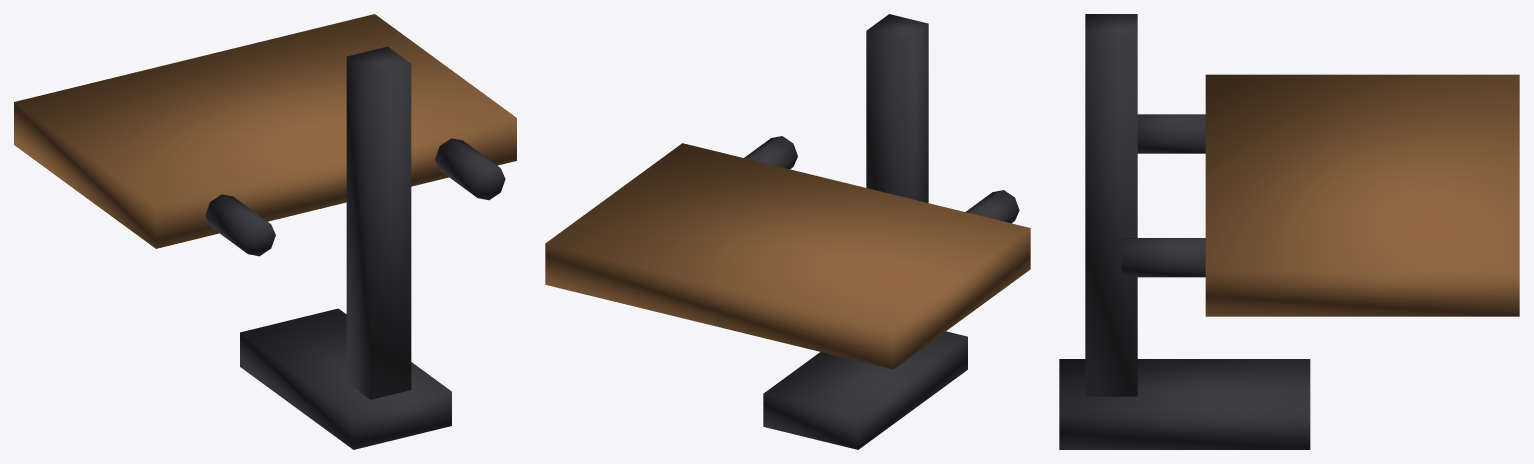
Rendered from town_wooden_sign.obj.
3 renders of one model, left to right at view 1: azimuth 30°, elevation 25°; view 2: azimuth 150°, elevation 25°; view 3: azimuth 270°, elevation 25°, orthographic. The views are drawn at different scales.
Visible parts, largest first — view 1: town_wooden_sign; view 2: town_wooden_sign; view 3: town_wooden_sign.
Boxes of the visible parts, x1,y1,x2,y2 form: town_wooden_sign: (14, 14, 516, 449); town_wooden_sign: (545, 14, 1030, 449); town_wooden_sign: (1059, 14, 1519, 449).
Size of the model in its own units: 0.44 by 0.42 by 0.44.
